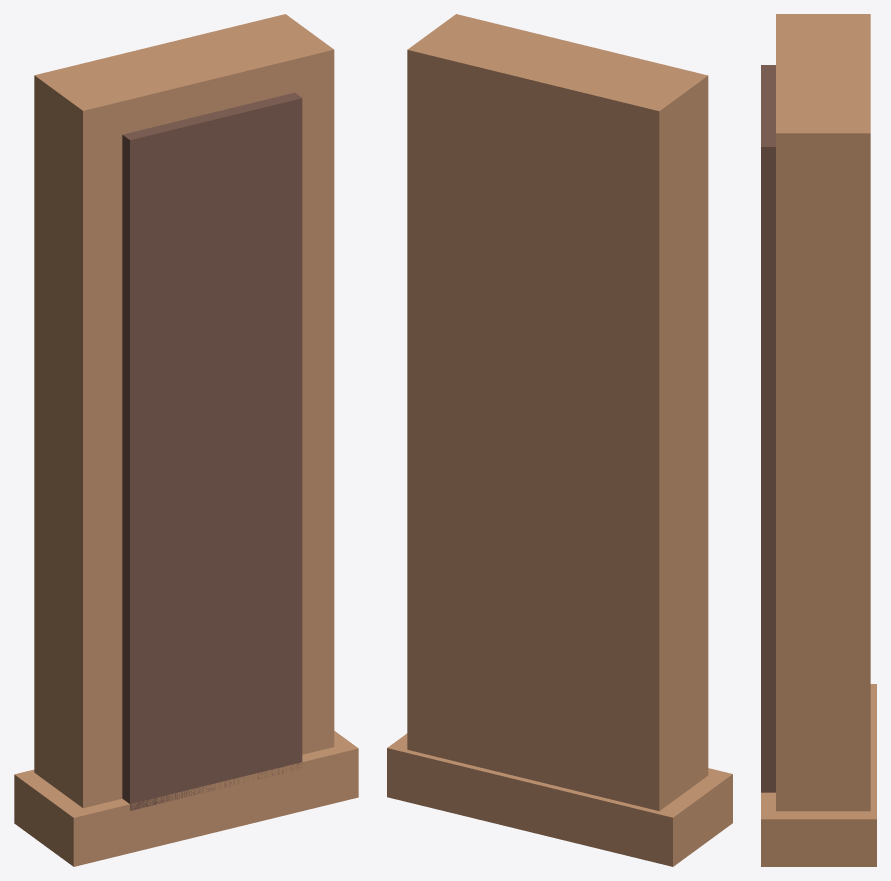
File: wooden_slot.glb
3 views of the same model, side by side, from view 1: azimuth 30°, elevation 25°; view 2: azimuth 150°, elevation 25°; view 3: azimuth 270°, elevation 25° (orthographic). The views are drawn at different scales.
Parts seen in each view (by area): view 1: Dark tube cavity, Wooden slot frame, Cube; view 2: Wooden slot frame, Cube; view 3: Wooden slot frame, Dark tube cavity, Cube.
Part boxes in pixels (left/top/right/bottom): Dark tube cavity: left=122, top=92, right=302, bottom=810; Wooden slot frame: left=34, top=14, right=334, bottom=808; Cube: left=14, top=731, right=358, bottom=866; Wooden slot frame: left=407, top=14, right=708, bottom=811; Cube: left=387, top=733, right=732, bottom=866; Wooden slot frame: left=776, top=14, right=870, bottom=811; Dark tube cavity: left=761, top=65, right=775, bottom=792; Cube: left=761, top=684, right=876, bottom=866.
Size of the model in its own units: 1.52 by 3.8 by 0.55.
